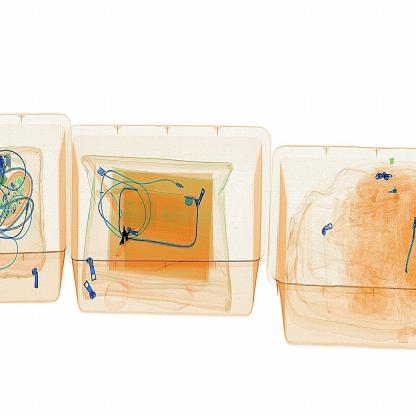gun: (104, 217, 148, 274)
